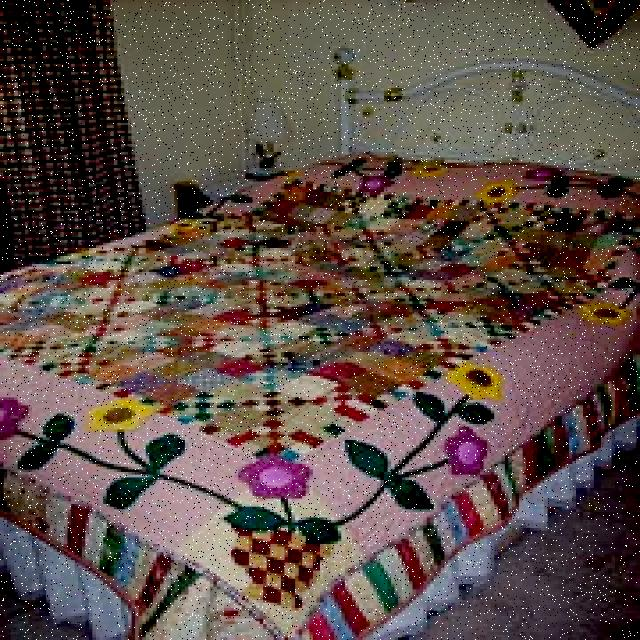bed: (1, 55, 629, 632)
